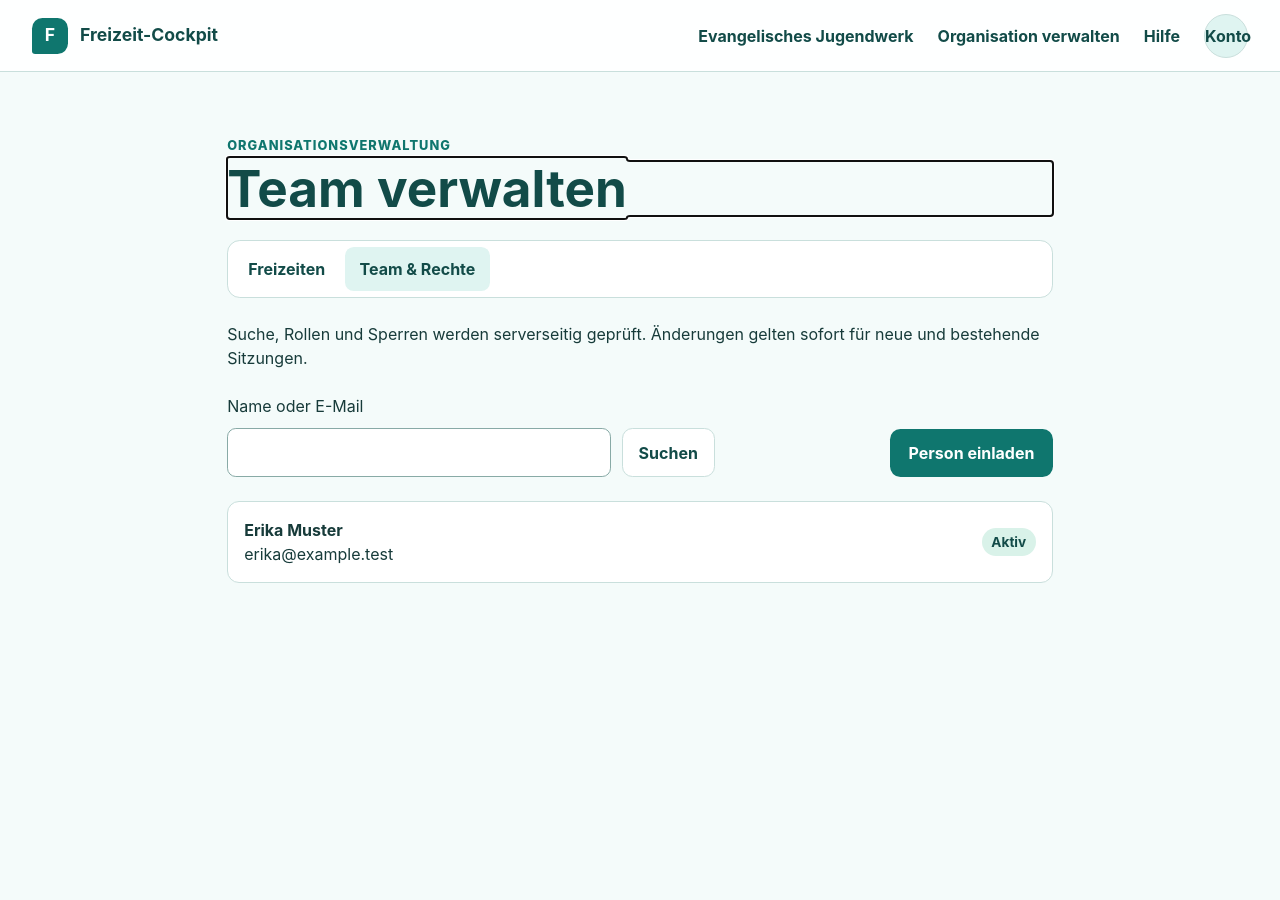
Scenario: user administration › labels an active Camp worker without Orgadmin rights as a member
Click the button with aria-label "Erika Muster auswählen" at (293,530), box x1=244 y1=518 x2=1036 y2=566
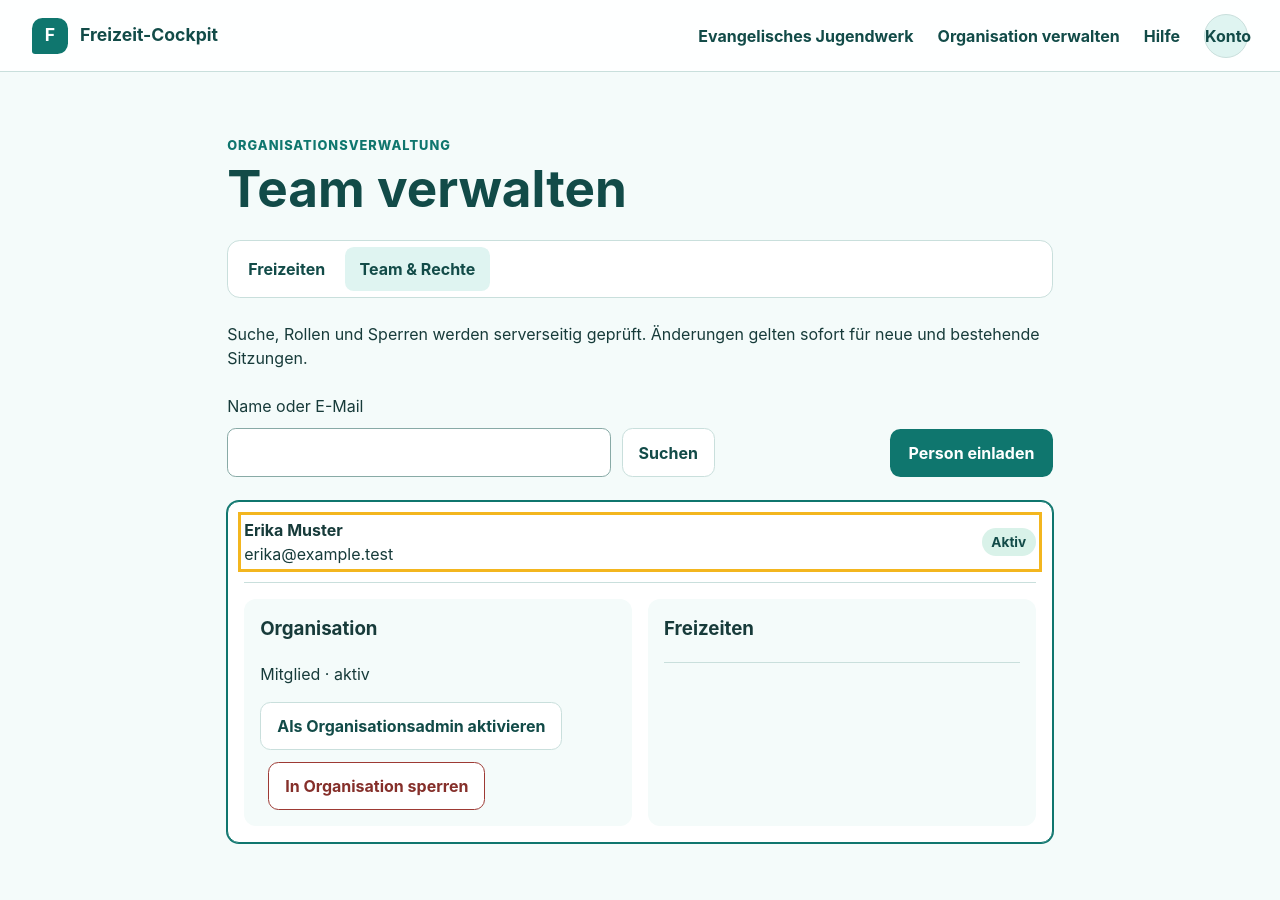
Expected: the text "Mitglied · aktiv" is shown, x1=260 y1=664 x2=370 y2=684
